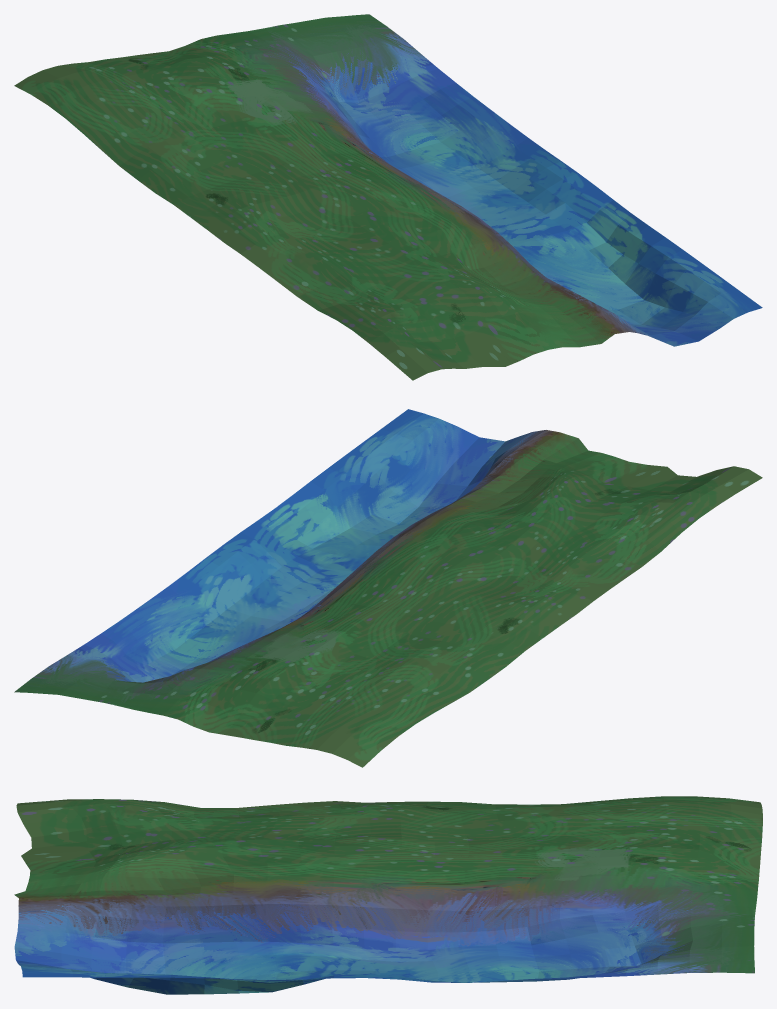
Rendered from teren.glb.
3 views of the same model, one above another, from view 1: azimuth 30°, elevation 25°; view 2: azimuth 150°, elevation 25°; view 3: azimuth 270°, elevation 25° (orthographic). The views are drawn at different scales.
Visible parts, largest first — view 1: Plane; view 2: Plane; view 3: Plane.
Part boxes in pixels (left/top/right/bottom): Plane: left=14, top=14, right=762, bottom=380; Plane: left=14, top=409, right=762, bottom=767; Plane: left=14, top=796, right=762, bottom=994.
Size of the model in its own units: 28.58 by 6.02 by 55.89.
Materials: 1 (1 with a texture image).
